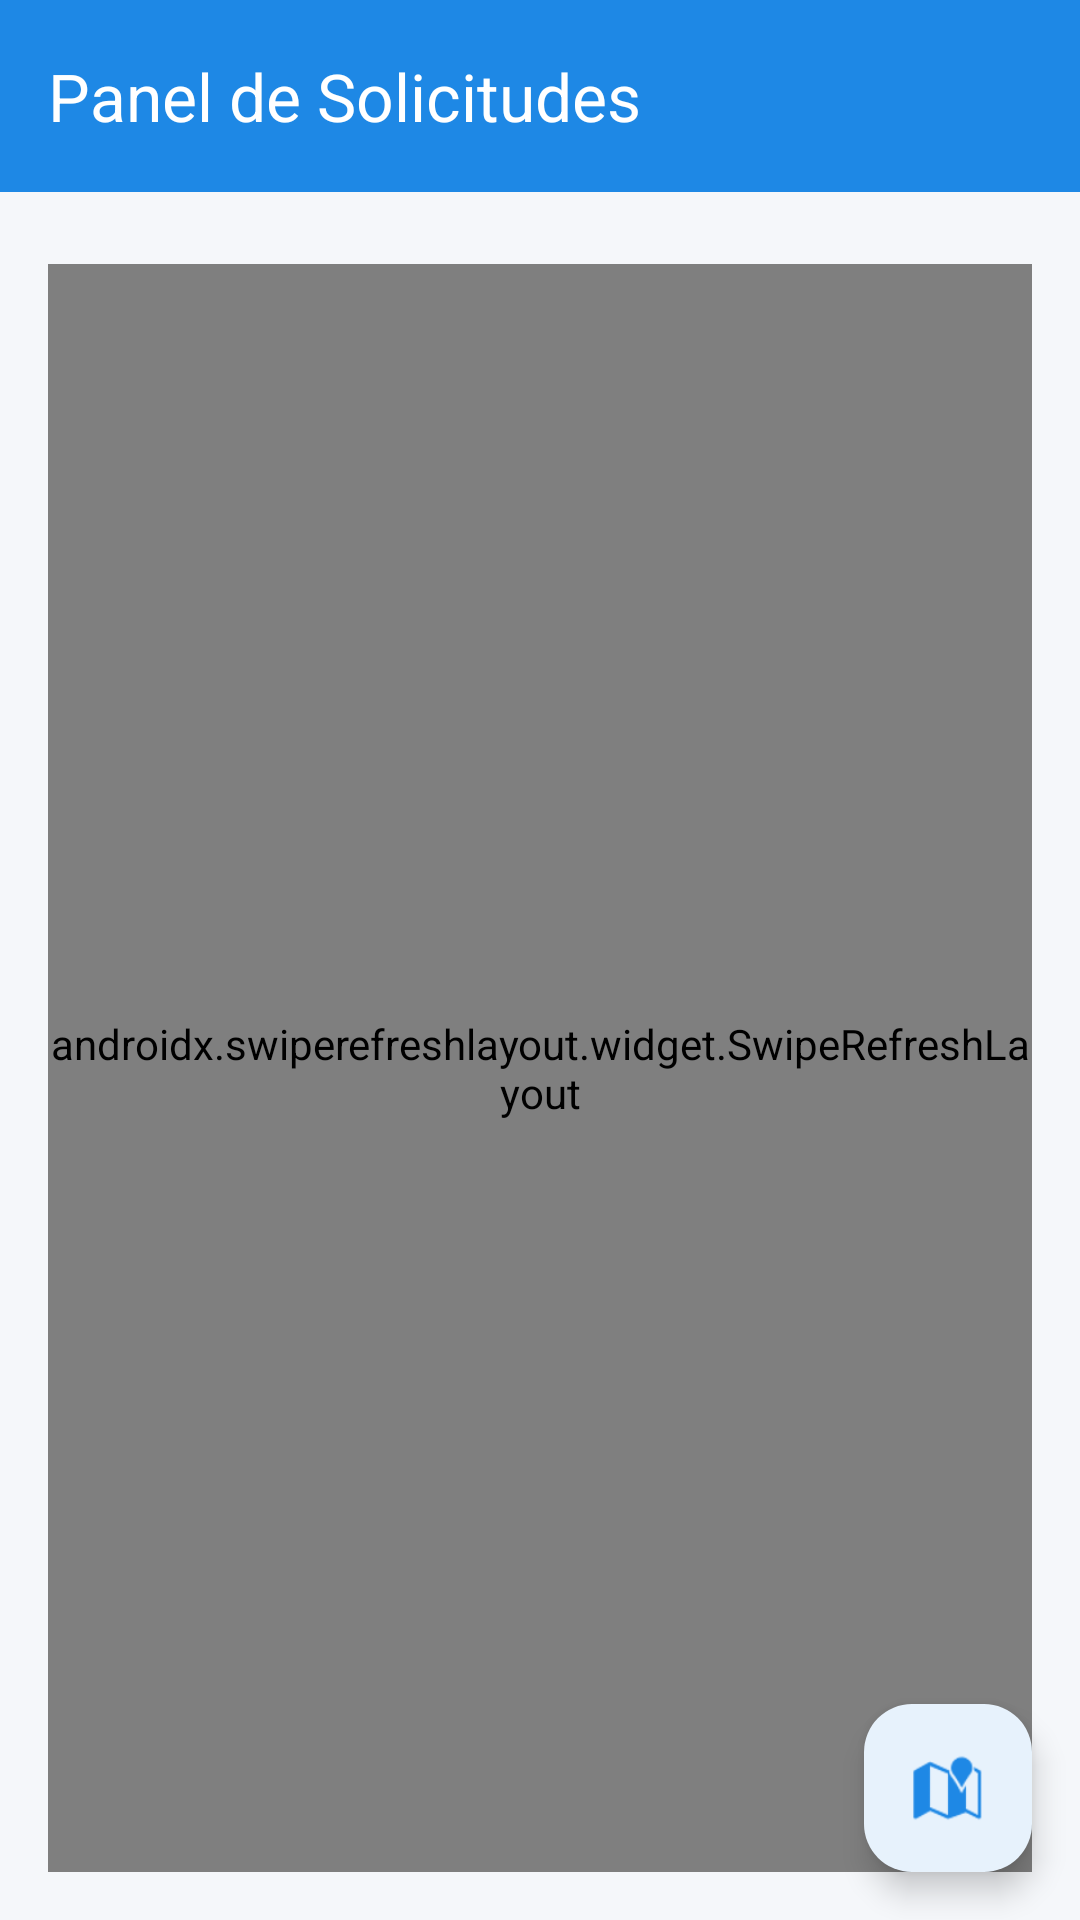

Icons on this 1080px×1920px Android screen, each with the point to tap as (x=x, y=y):
Ver Mapa: (x=948, y=1788)
